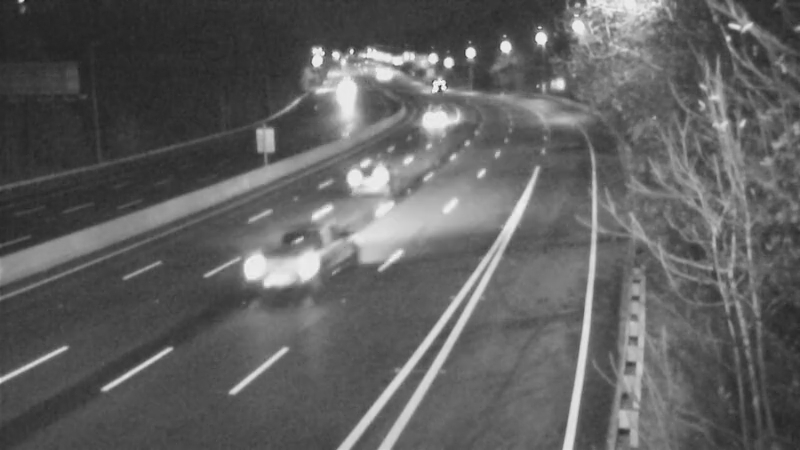vehicle: (332, 142, 412, 222), (258, 226, 338, 306), (409, 60, 459, 110), (407, 97, 457, 147), (318, 71, 368, 121)
